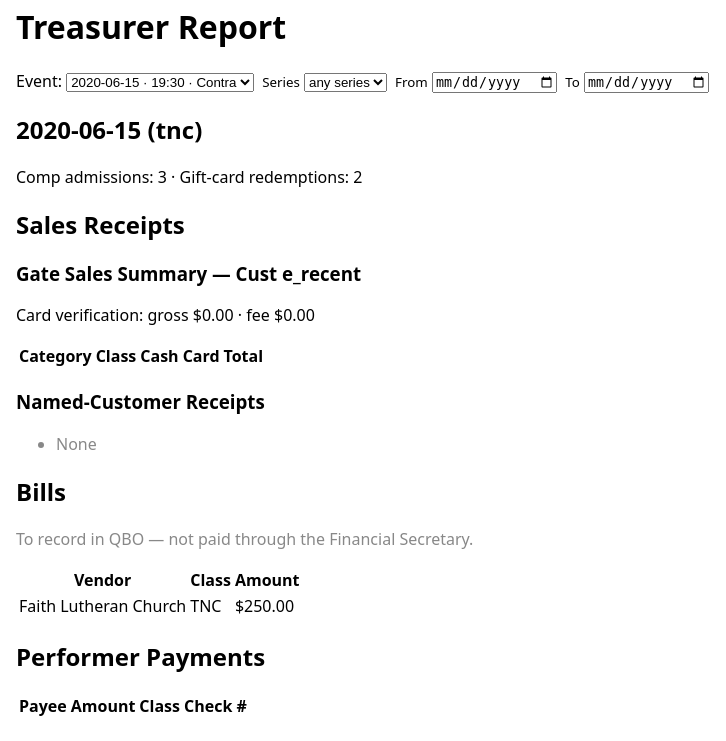
Test case: TreasurerReportPage — /treasurer single page + selector (028) › renders the report for the default event and reloads when the event changes
Expected: the heading "Gate Sales Summary — Cust e_recent" is shown, top-left (16, 261), bottom-right (361, 286)
// Switching the selected event reloads the report.
Select "2020-01-10" in the dropdown labelled "Event:": (160, 83) top-left (66, 74), bottom-right (254, 92)
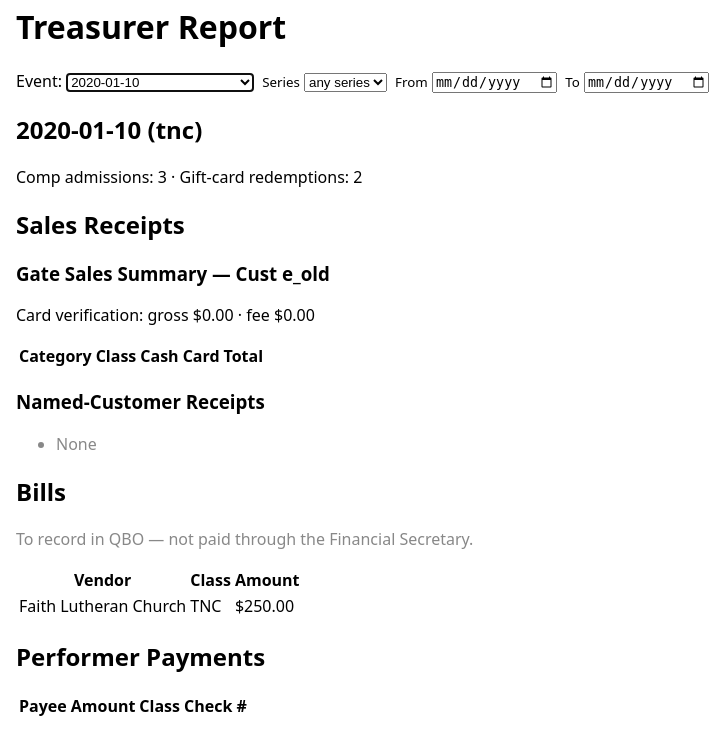
Expected: the heading "Gate Sales Summary — Cust e_old" is shown, top-left (16, 261), bottom-right (330, 286)
